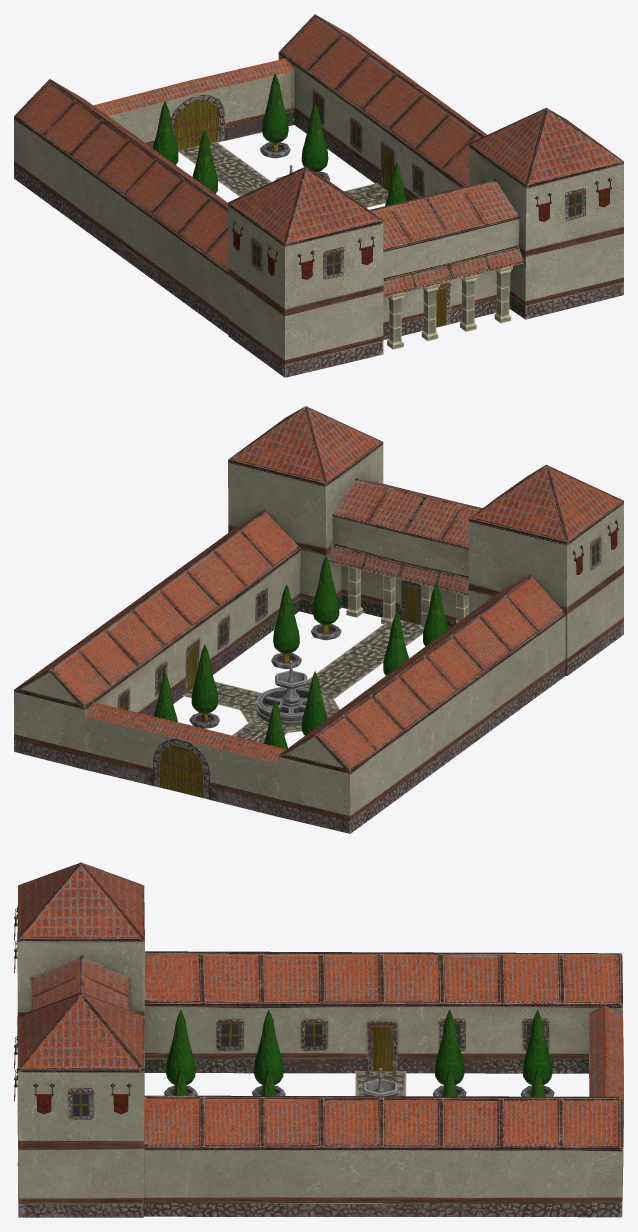
File: house.fbx
The picture shows the model from 3 angles, top to bottom: view 1: azimuth 30°, elevation 25°; view 2: azimuth 150°, elevation 25°; view 3: azimuth 270°, elevation 25°; orthographic projection. The views are drawn at different scales.
Parts seen in each view (by area): view 1: Плоскость.002, коллона и кипарис2.002, Куб.003, Плоскость, Плоскость.005, Плоскость.001; view 2: Плоскость.002, коллона и кипарис2.002, Плоскость, Цилиндр.001, Куб.002; view 3: Плоскость.002, коллона и кипарис2.002, Плоскость, Цилиндр.001.
Part boxes in pixels (x1,y1,x2,y2): Плоскость.002: [14, 14, 623, 377]; коллона и кипарис2.002: [152, 73, 436, 205]; Куб.003: [387, 266, 512, 349]; Плоскость: [178, 141, 388, 207]; Плоскость.005: [297, 177, 611, 279]; Плоскость.001: [358, 192, 551, 264]; Плоскость.002: [14, 406, 623, 833]; коллона и кипарис2.002: [153, 556, 448, 749]; Плоскость: [182, 620, 422, 743]; Цилиндр.001: [256, 660, 325, 725]; Куб.002: [346, 566, 468, 631]; Плоскость.002: [17, 862, 623, 1217]; коллона и кипарис2.002: [164, 1009, 554, 1096]; Плоскость: [355, 1071, 406, 1096]; Цилиндр.001: [362, 1068, 398, 1096].
Size of the model in its own units: 1150 by 573 by 1590.
6 materials, 6 textured.
